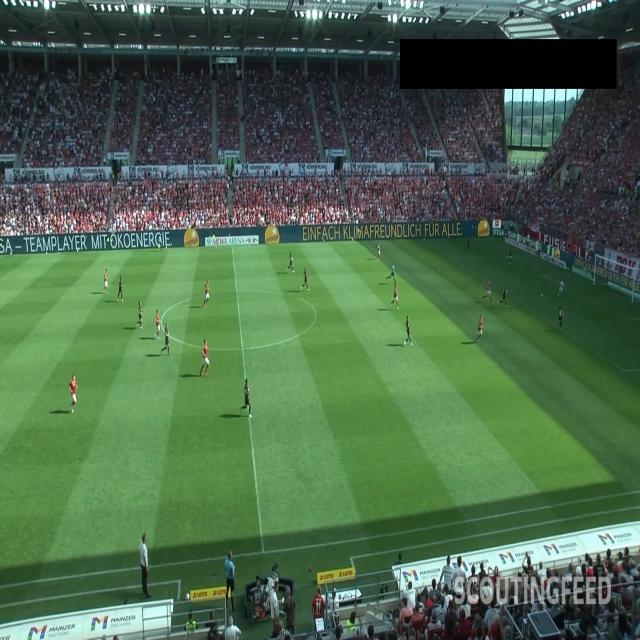ball: (541, 293, 543, 298)
